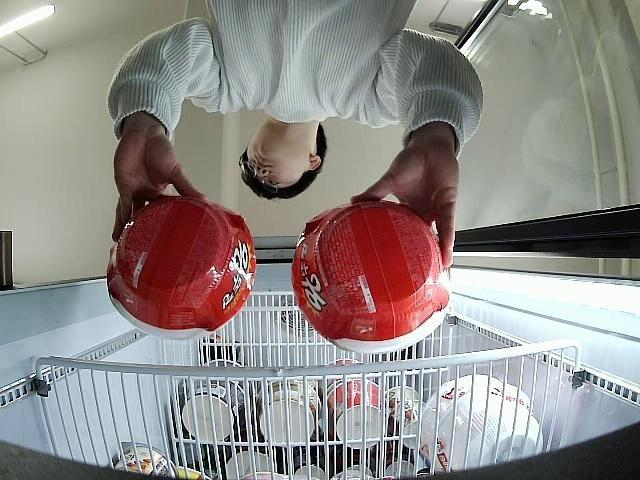10_wangTtukkeong: (292, 200, 450, 350), (108, 194, 255, 341)
